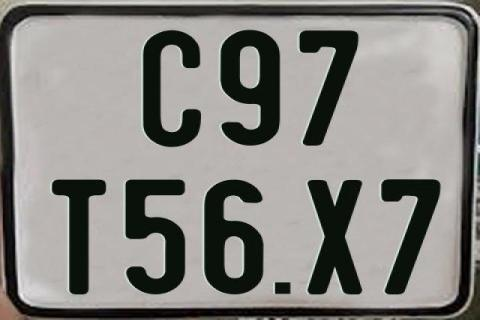0: (378, 177, 444, 295), (221, 28, 284, 147), (299, 30, 359, 150), (124, 178, 186, 294), (202, 179, 262, 297)
C: (144, 29, 206, 145)
T: (51, 180, 107, 298)
X: (305, 178, 364, 296)
